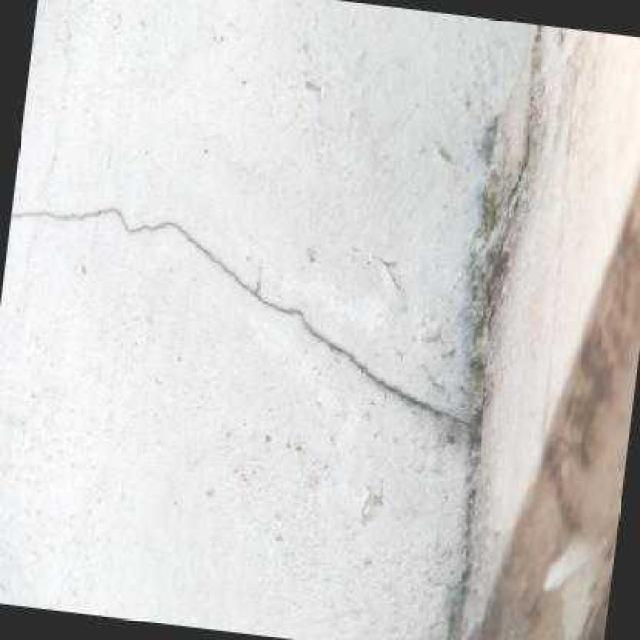D00: (10, 204, 472, 432)
